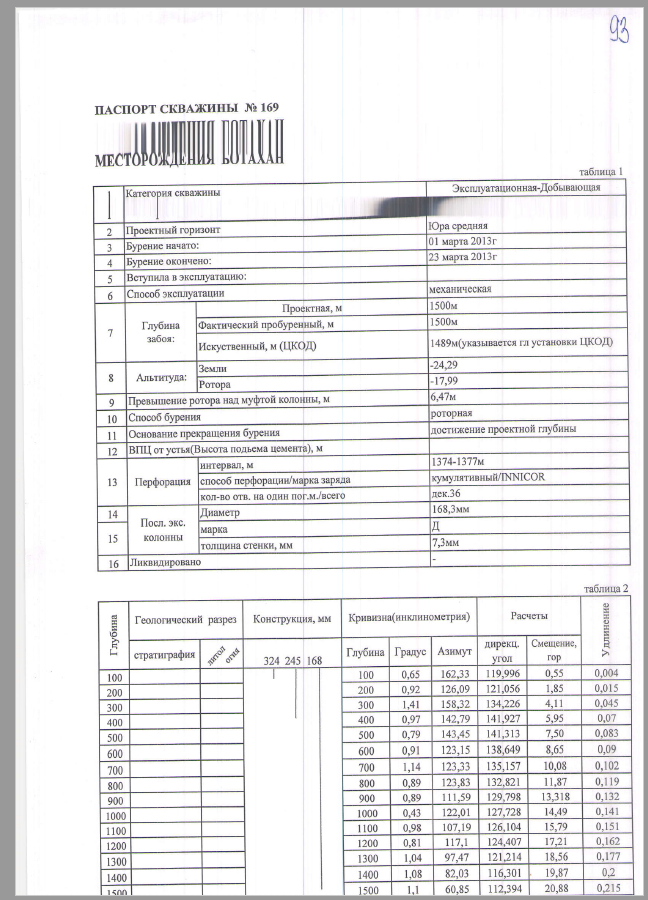Bordered: (94, 188, 633, 569), (96, 594, 638, 900)
